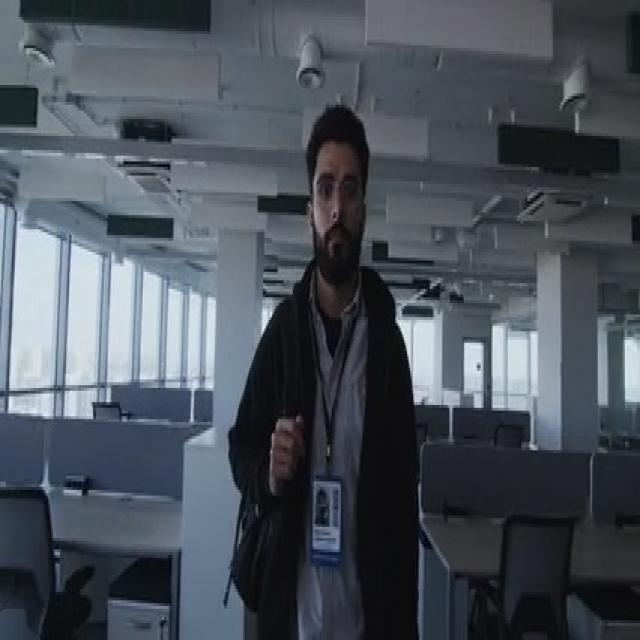Jacket_Wearer: (223, 255, 420, 640)
Person: (220, 104, 414, 640)
